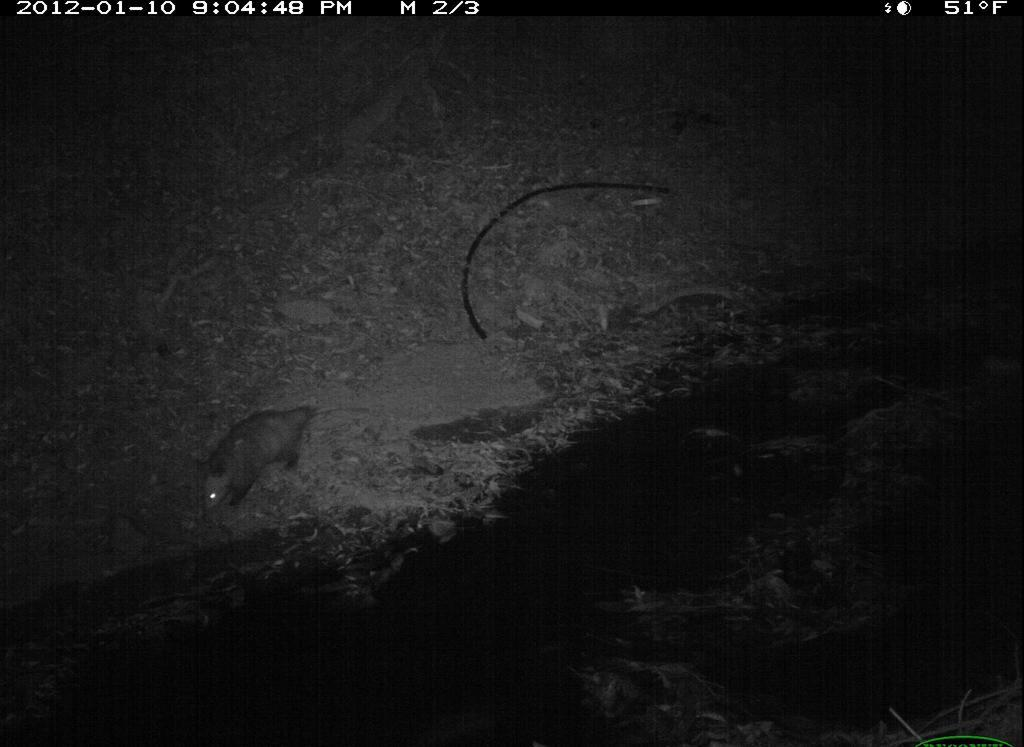opossum: (186, 379, 372, 559)
